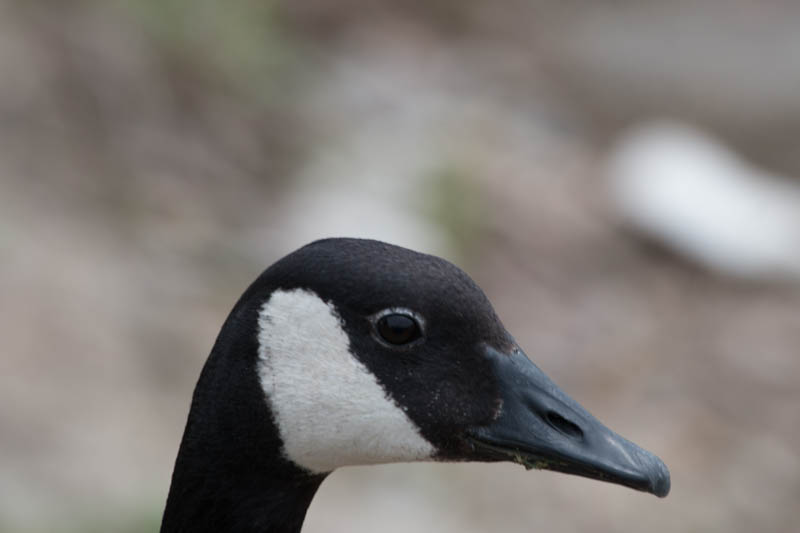goose-head: (176, 237, 670, 500)
